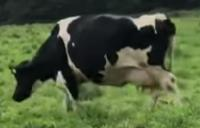cow: (12, 15, 176, 113)
